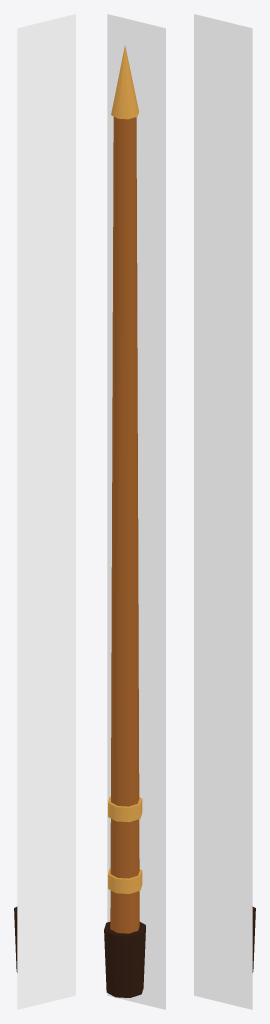
File: mdl-skewer-base-r2-b1.glb
The picture shows the model from 3 angles, left to right: view 1: azimuth 30°, elevation 25°; view 2: azimuth 150°, elevation 25°; view 3: azimuth 330°, elevation 25°; orthographic projection.
Parts seen in each view (by area): view 1: pixel-material-plane, handle-cap; view 2: pixel-material-plane, bamboo-shaft, handle-cap, bamboo-tip, handle-ring-2, handle-ring-1; view 3: pixel-material-plane, handle-cap.
Part boxes in pixels (x1,y1,x2,y2): pixel-material-plane: (17, 14, 75, 1009); handle-cap: (14, 906, 17, 972); pixel-material-plane: (107, 14, 165, 1009); bamboo-shaft: (110, 117, 139, 933); handle-cap: (104, 922, 145, 997); bamboo-tip: (111, 45, 138, 119); handle-ring-2: (108, 796, 142, 822); handle-ring-1: (108, 868, 142, 893); pixel-material-plane: (194, 14, 252, 1009); handle-cap: (252, 906, 255, 972).
Size of the model in its own units: 0.1025 by 1.64 by 0.068.
